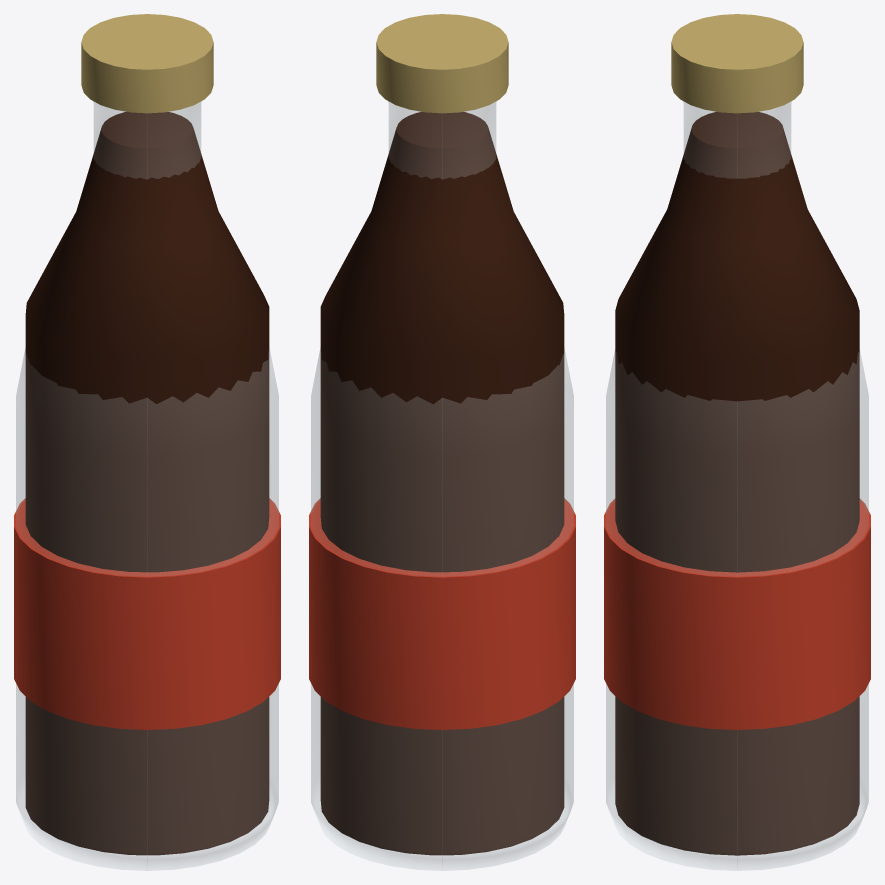
The model's file is cola.glb.
3 views of the same model, side by side, from view 1: azimuth 30°, elevation 25°; view 2: azimuth 150°, elevation 25°; view 3: azimuth 270°, elevation 25° (orthographic).
Visible parts, largest first — view 1: cola; view 2: cola; view 3: cola.
Part boxes in pixels (x1,y1,x2,y2): cola: (14,14,280,870); cola: (309,14,575,870); cola: (604,14,870,870).
Bounding box in the file's own units: 0.067 × 0.214 × 0.0666.
